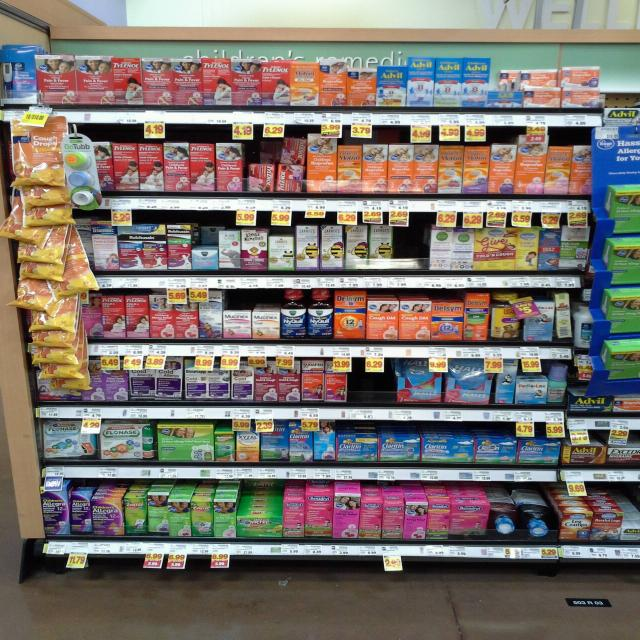void: (353, 365, 391, 426), (398, 224, 426, 284)
